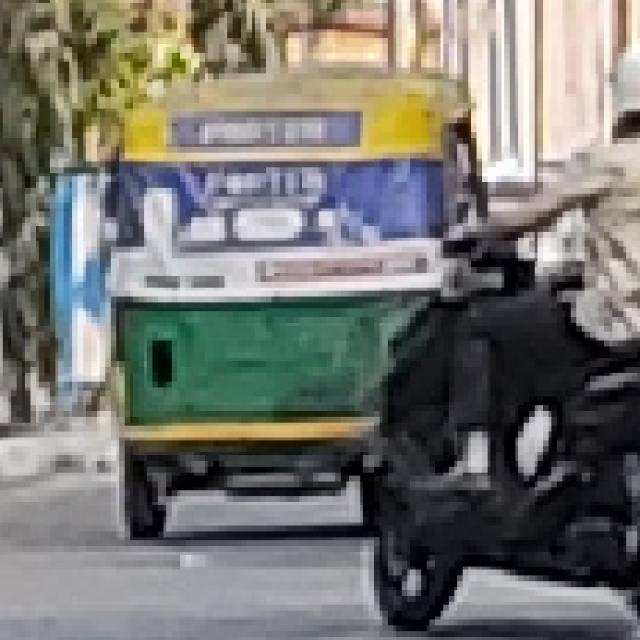autorickshaw: (106, 56, 490, 534)
